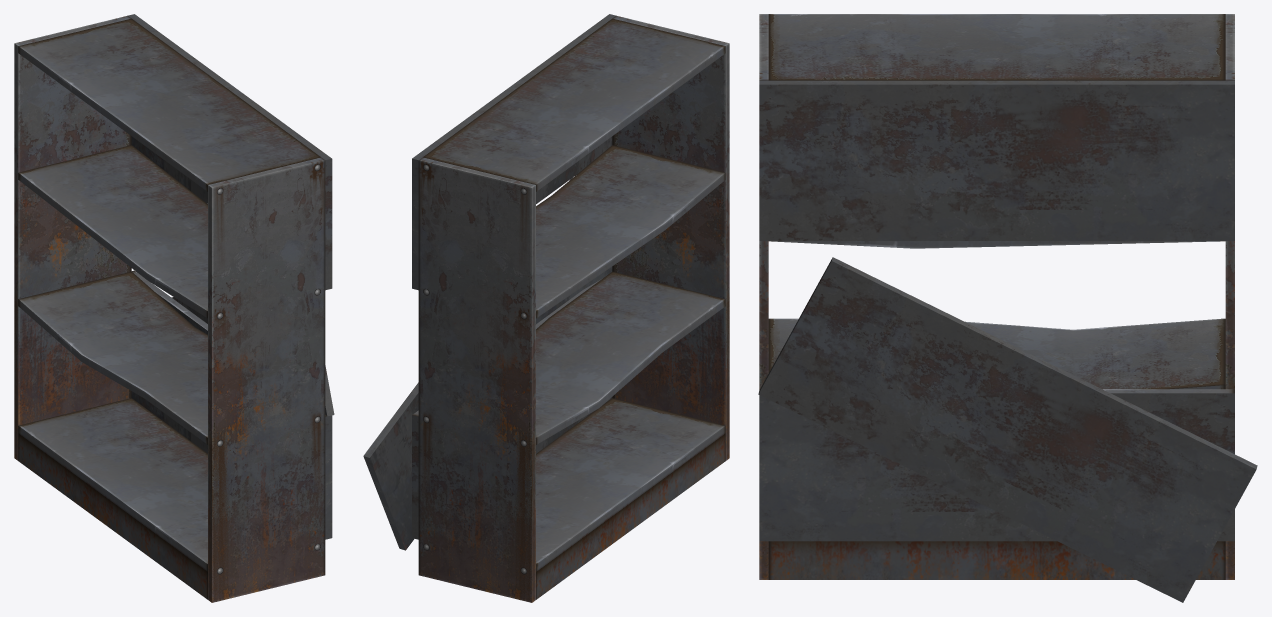
Rendered from metalShelf03_B2.fbx.
The picture shows the model from 3 angles, left to right: view 1: azimuth 30°, elevation 25°; view 2: azimuth 150°, elevation 25°; view 3: azimuth 270°, elevation 25°; orthographic projection. The views are drawn at different scales.
Parts seen in each view (by area): view 1: metalShelf03_B2; view 2: metalShelf03_B2; view 3: metalShelf03_B2.
Boxes of the visible parts, x1=… form: metalShelf03_B2: x1=14, y1=14, x2=334, y2=602; metalShelf03_B2: x1=363, y1=14, x2=729, y2=602; metalShelf03_B2: x1=758, y1=14, x2=1257, y2=602.
Size of the model in its own units: 70.48 by 175 by 159.
